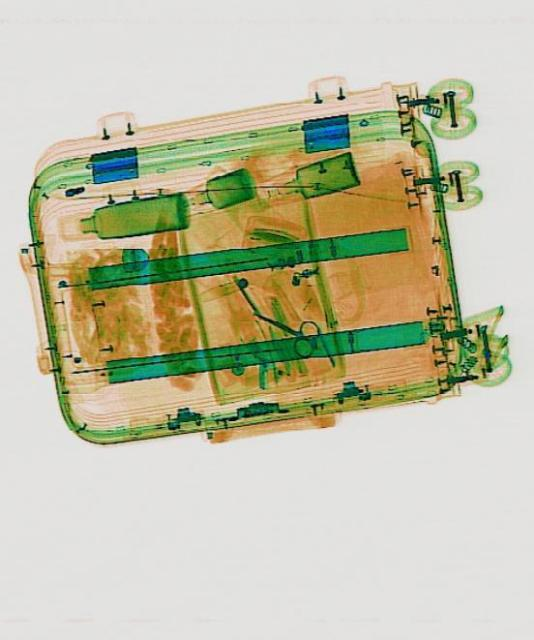Scissors: (242, 294, 322, 362)
